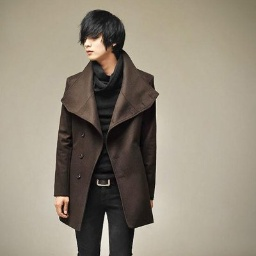face: (83, 10, 127, 61)
